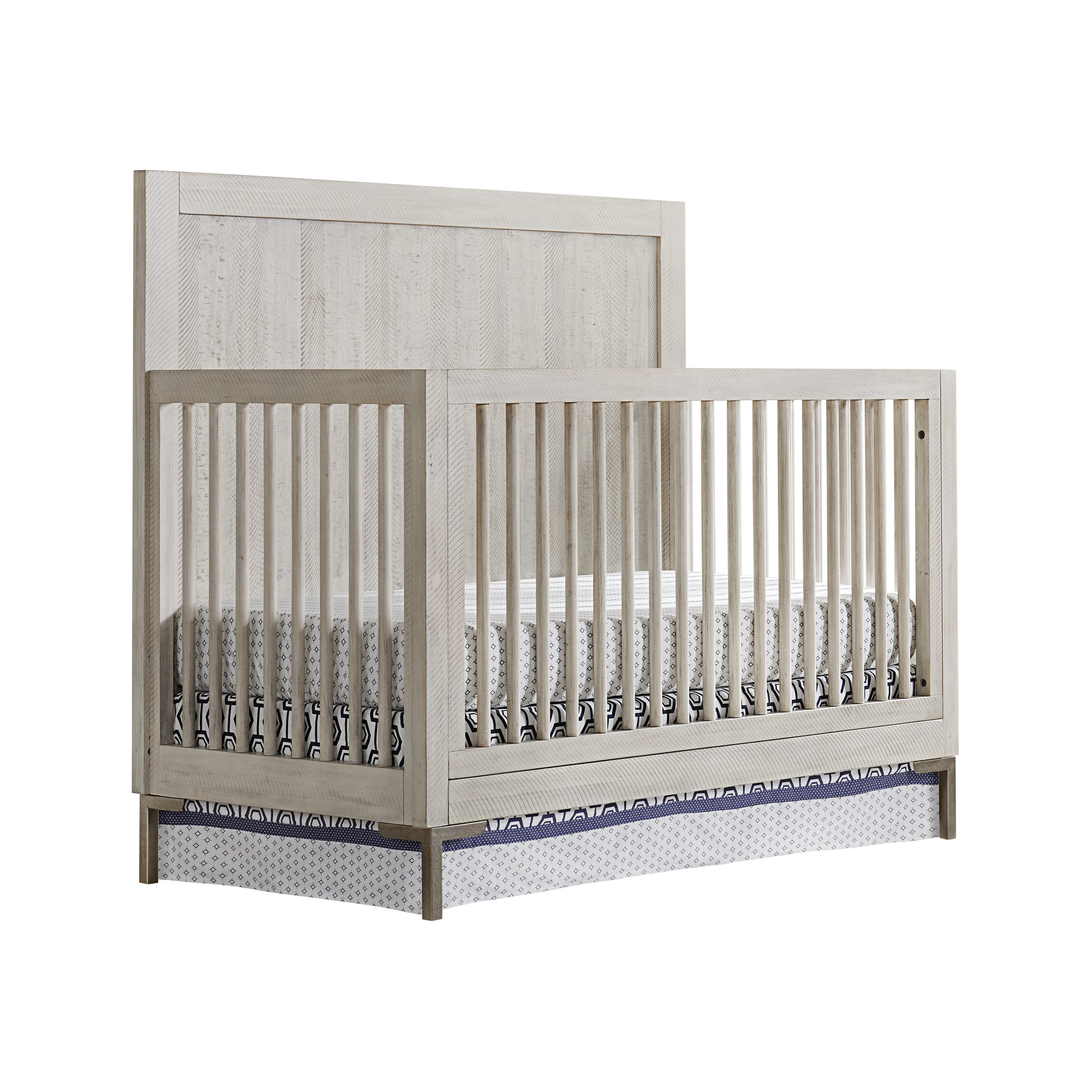crib: (134, 172, 957, 922)
